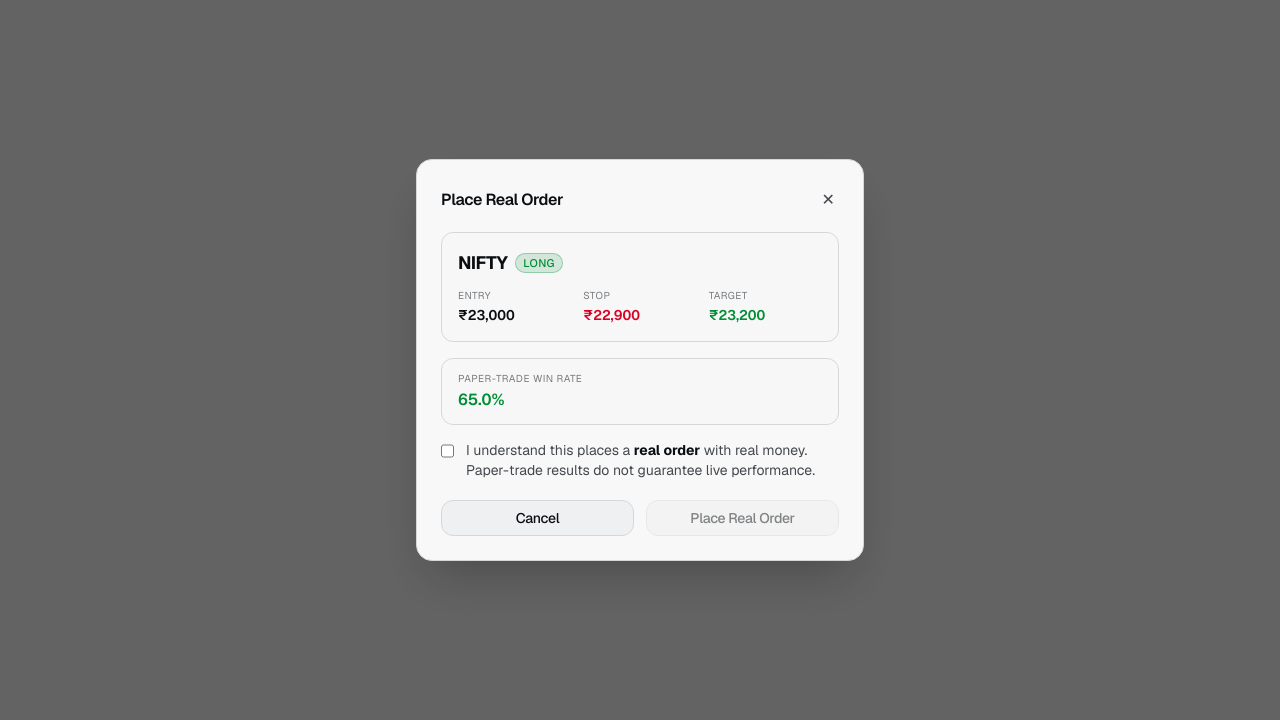
Test: LiveOrderModal › the Place Real Order button becomes disabled again when checkbox is unchecked
The width and height of the screenshot is (1280, 720).
What coordinates should you click on to do the following:
click the checkbox with test id "confirm-checkbox"
I would click on:
 (448, 451)
Its box is left=441, top=443, right=454, bottom=459.
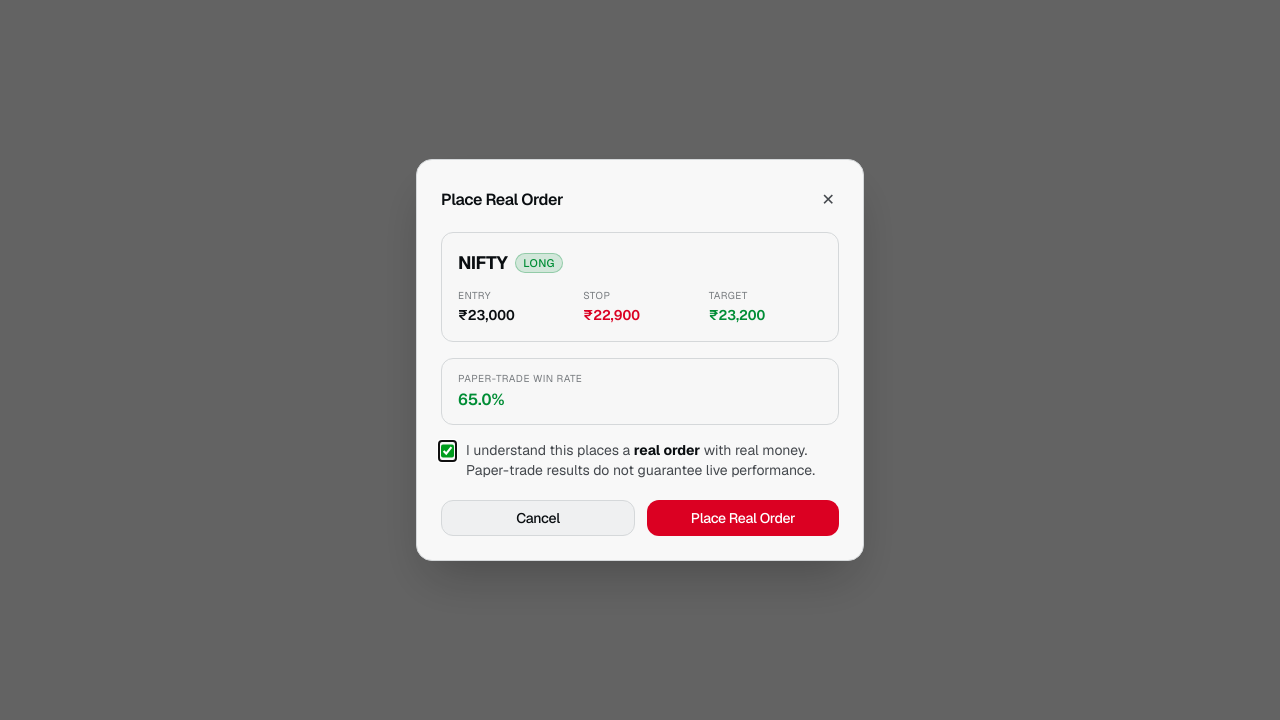
Check: the button with test id "place-order-btn" is enabled, box left=647, top=500, right=839, bottom=536
What coordinates should you click on to do the following:
click the checkbox with test id "confirm-checkbox"
I would click on:
 (448, 451)
Its box is left=441, top=443, right=454, bottom=459.
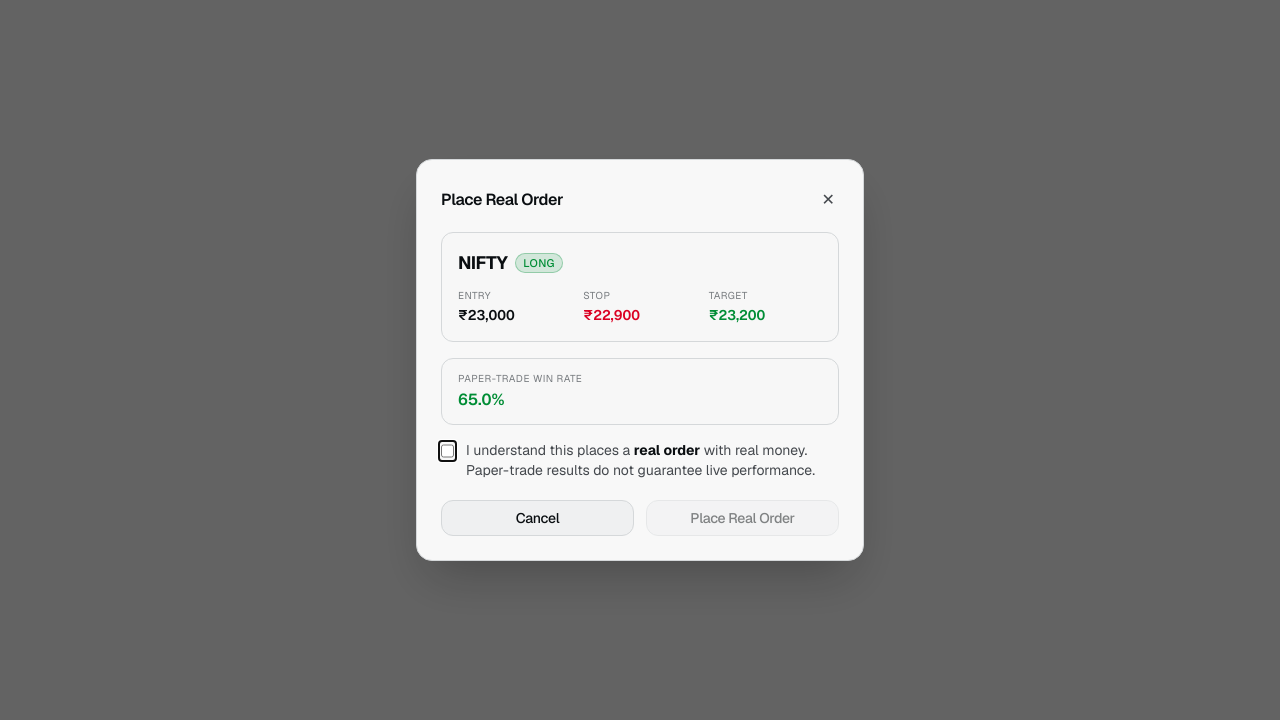
Check: the button with test id "place-order-btn" is disabled, box left=646, top=500, right=839, bottom=536
